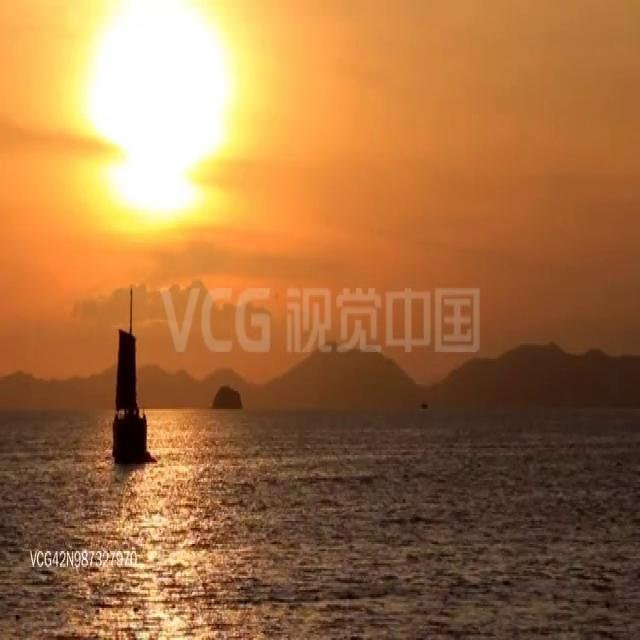sailboat: (109, 280, 150, 466)
